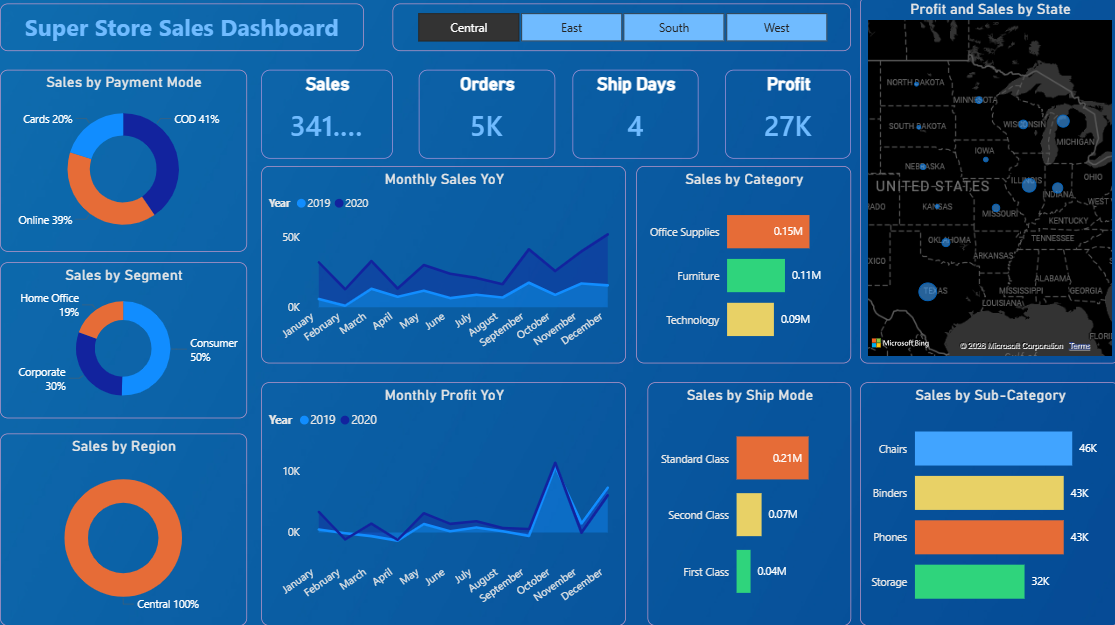

Layout of this report page (visuals, bound fields, positions):
{"tool":"powerbi","page":{"name":"Page 1","canvas":[1280,720],"ordinal":0},"visuals":[{"type":"clusteredBarChart","title":"Sales by Category","fields":{"Category":["Sheet1 (2).Category"],"Y":["Sum(Sheet1 (2).Sales)"]},"box":[727.1,194.3,245.7,225.7],"z":0},{"type":"clusteredBarChart","title":"Sales by Sub-Category","fields":{"Category":["Sheet1 (2).Sub-Category"],"Y":["Sum(Sheet1 (2).Sales)"]},"box":[982.9,441.4,297.1,278.6],"z":1000},{"type":"clusteredBarChart","title":"Sales by Ship Mode","fields":{"Category":["Sheet1 (2).Ship Mode"],"Y":["Sum(Sheet1 (2).Sales)"]},"box":[740,441.4,232.9,278.6],"z":2000},{"type":"stackedAreaChart","title":"Monthly Sales YoY","fields":{"Category":["Sheet1 (2).Order Date.Variation.Date Hierarchy.Month"],"Y":["Sum(Sheet1 (2).Sales)"],"Series":["Sheet1 (2).Order Date.Variation.Date Hierarchy.Year"]},"box":[298.6,194.3,417.1,225.7],"z":3000},{"type":"stackedAreaChart","title":"Monthly Profit YoY","fields":{"Category":["Sheet1 (2).Order Date.Variation.Date Hierarchy.Month"],"Series":["Sheet1 (2).Order Date.Variation.Date Hierarchy.Year"],"Y":["Sum(Sheet1 (2).Profit)"]},"box":[298.6,441.4,417.1,278.6],"z":4000},{"type":"map","title":"Profit and Sales by State","fields":{"Category":["Sheet1 (2).State"],"Size":["Sum(Sheet1 (2).Sales)"]},"box":[982.9,0,297.1,420],"z":5000},{"type":"donutChart","title":"Sales by Segment","fields":{"Category":["Sheet1 (2).Segment"],"Y":["CountNonNull(Sheet1 (2).State)"]},"box":[0,304,282,178],"z":6000},{"type":"donutChart","title":"Sales by Payment Mode","fields":{"Category":["Sheet1 (2).Payment Mode"],"Y":["Sum(Sheet1 (2).Sales)"]},"box":[0,84,282,208],"z":7000},{"type":"slicer","fields":{"Values":["Sheet1 (2).Region"]},"box":[448.6,8.6,524.3,54.3],"z":8000},{"type":"textbox","box":[0,8,416,54],"z":9000},{"type":"cardVisual","title":"Sales","fields":{"Data":["Sum(Sheet1 (2).Sales)"]},"box":[298.6,84.3,150,101.4],"z":10000},{"type":"cardVisual","title":"Orders","fields":{"Data":["Sum(Sheet1 (2).Quantity)"]},"box":[478.6,84.3,155.7,101.4],"z":11000},{"type":"cardVisual","title":"Profit","fields":{"Data":["Sum(Sheet1 (2).Profit)"]},"box":[828.6,84.3,144.3,101.4],"z":12000},{"type":"cardVisual","title":"Ship Days","fields":{"Data":["Avg(Sheet1 (2).AvgDelivery)"]},"box":[654.3,84.3,144.3,101.4],"z":13000},{"type":"donutChart","title":"Sales by Region","fields":{"Category":["Sheet1 (2).Region"],"Y":["CountNonNull(Sheet1 (2).State)"]},"box":[0,500,282,220],"z":14000}]}

Visuals, with their boxes in screenshot pixels (x1, y1, x2, y2), scaled from the page's 1280x720 canvas onto the 1115x625 screenshot:
"Sales by Category" clusteredBarChart: (633,169,847,365)
"Sales by Sub-Category" clusteredBarChart: (856,383,1114,624)
"Sales by Ship Mode" clusteredBarChart: (645,383,847,624)
"Monthly Sales YoY" stackedAreaChart: (260,169,623,365)
"Monthly Profit YoY" stackedAreaChart: (260,383,623,624)
"Profit and Sales by State" map: (856,0,1114,365)
"Sales by Segment" donutChart: (0,264,246,418)
"Sales by Payment Mode" donutChart: (0,73,246,253)
slicer - Sheet1 (2).Region: (391,7,847,55)
textbox: (0,7,362,54)
"Sales" cardVisual: (260,73,391,161)
"Orders" cardVisual: (417,73,553,161)
"Profit" cardVisual: (722,73,847,161)
"Ship Days" cardVisual: (570,73,696,161)
"Sales by Region" donutChart: (0,434,246,624)
